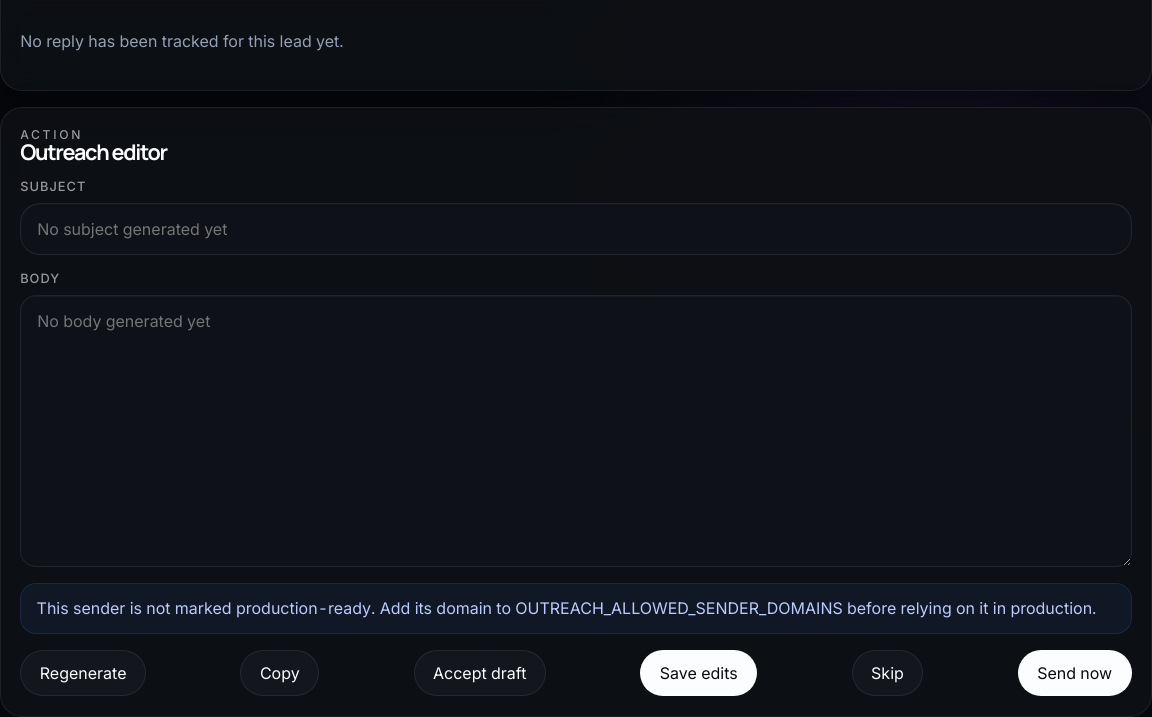
Test: LeadDetailPage › surfaces persisted retry details after a failed send attempt
The image size is (1152, 717).
(page scrolled)
Click the button "Send now" at (1075, 673), box [1018,650,1132,696]
(page scrolled)
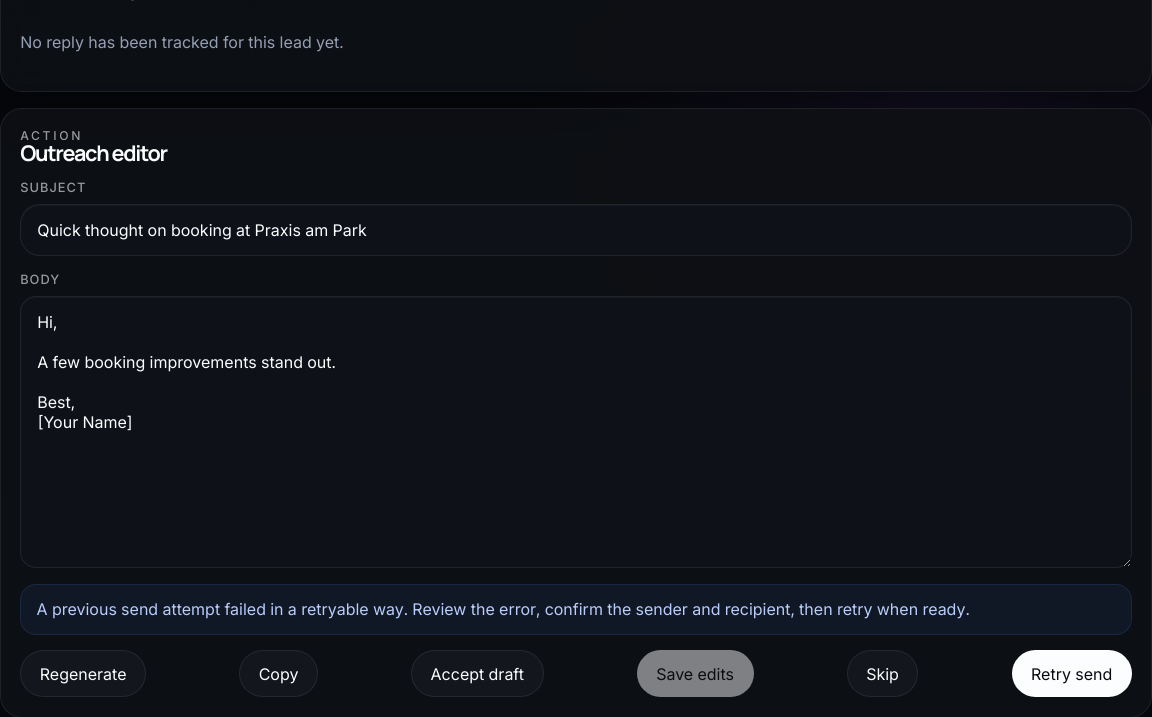
Expected: the button "Retry send" is shown, [1012,650,1132,697]
